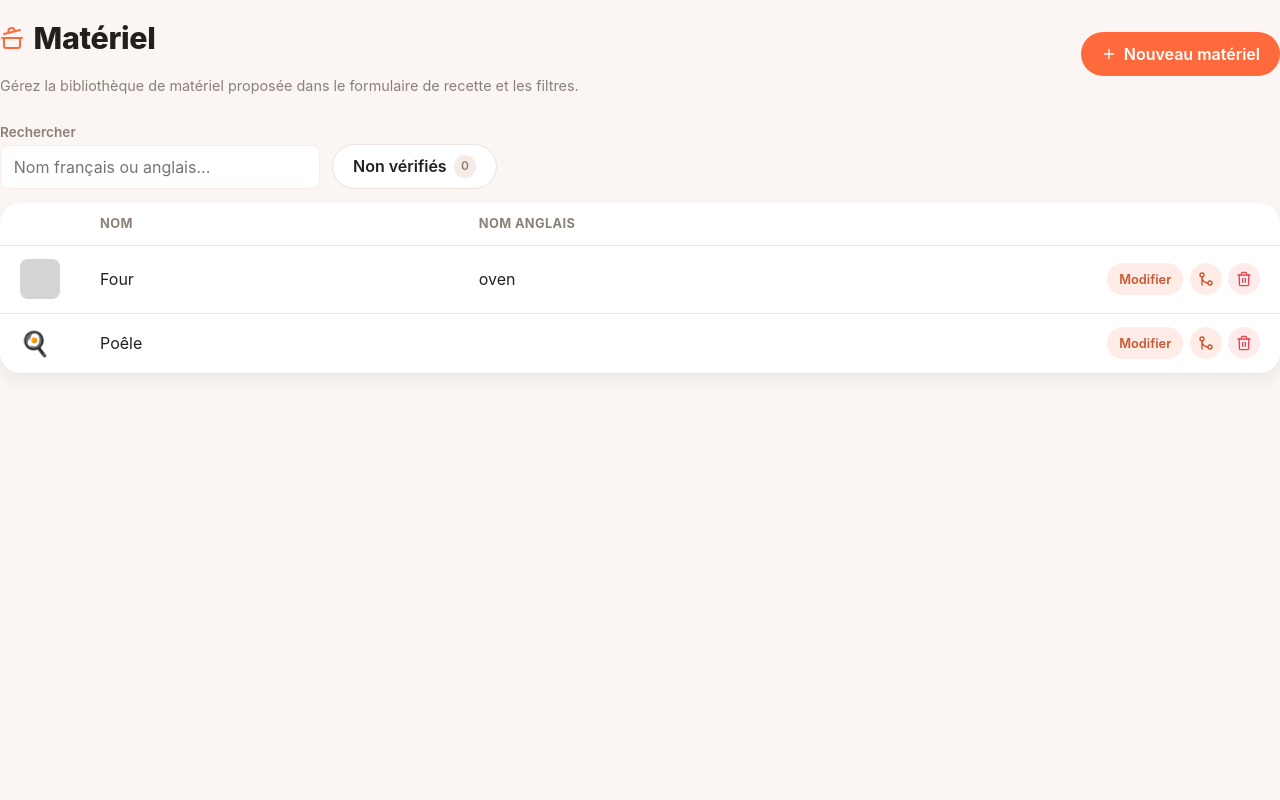
Test: AdminCookwareView › edits cookware, keeping its other translations, and reports a duplicate name
The width and height of the screenshot is (1280, 800).
Step 1. Click the button with class "secondary" in the row of "Four" → (1145, 279), box [1107,263,1183,295]
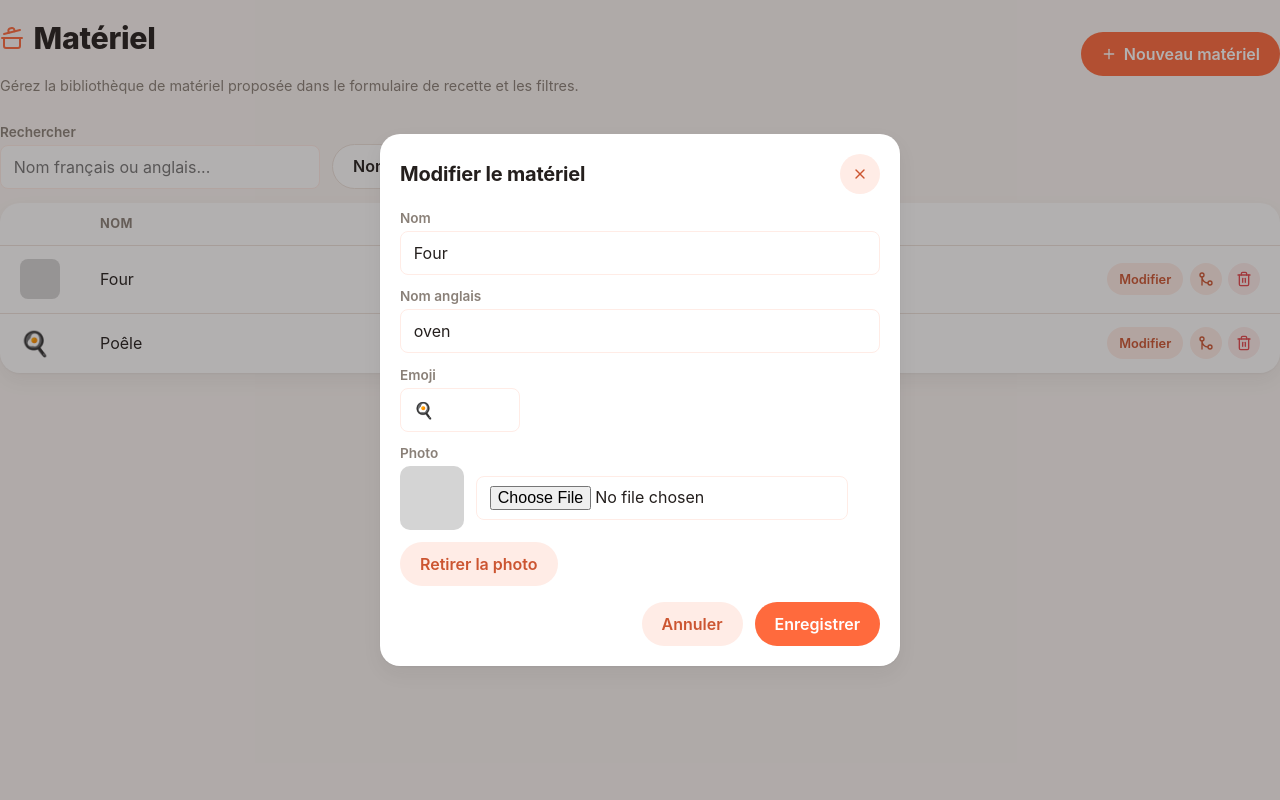
expect the field with id "cookware-modal-name-en" holds "oven": met, box [400,309,880,353]
Step 2. Replace the text in the field with id "cookware-modal-name" with "Poêle" → (640, 253), box [400,231,880,275]
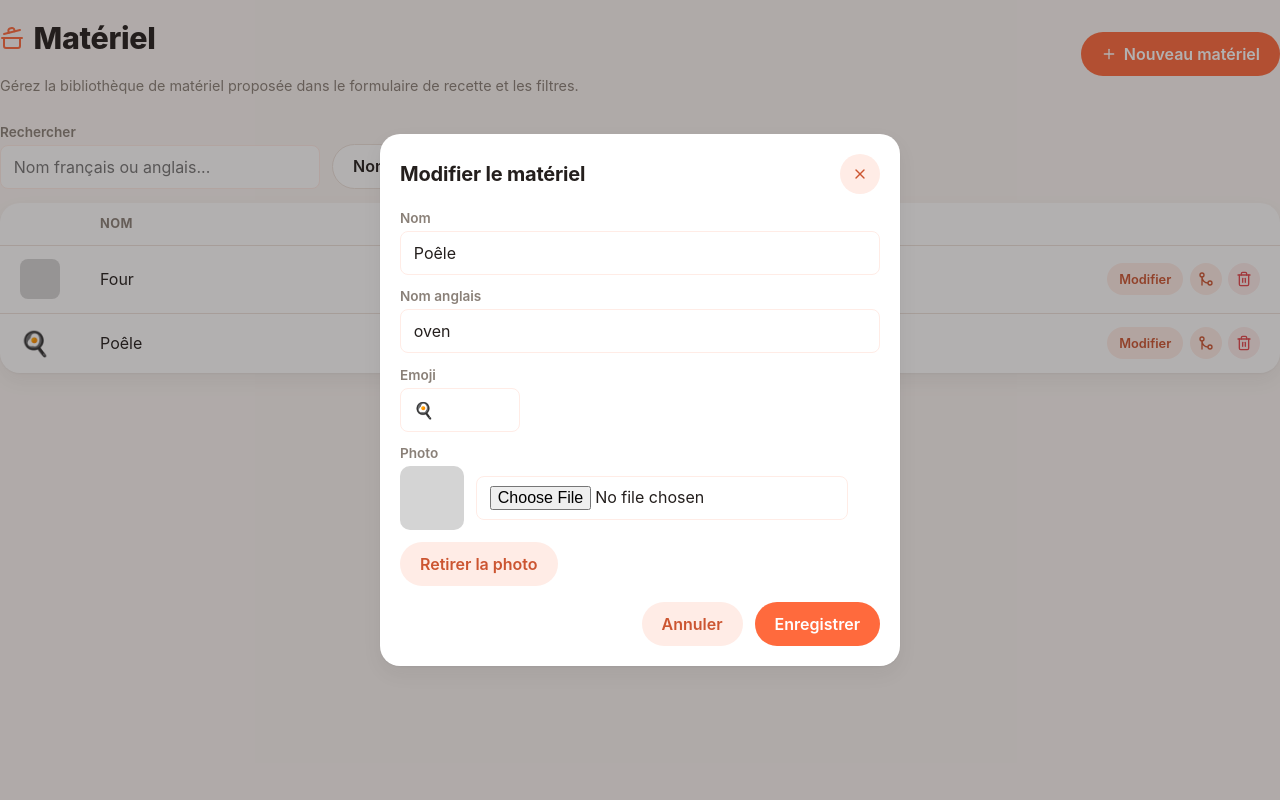
Step 3. Submit the form, box [400,210,880,646]
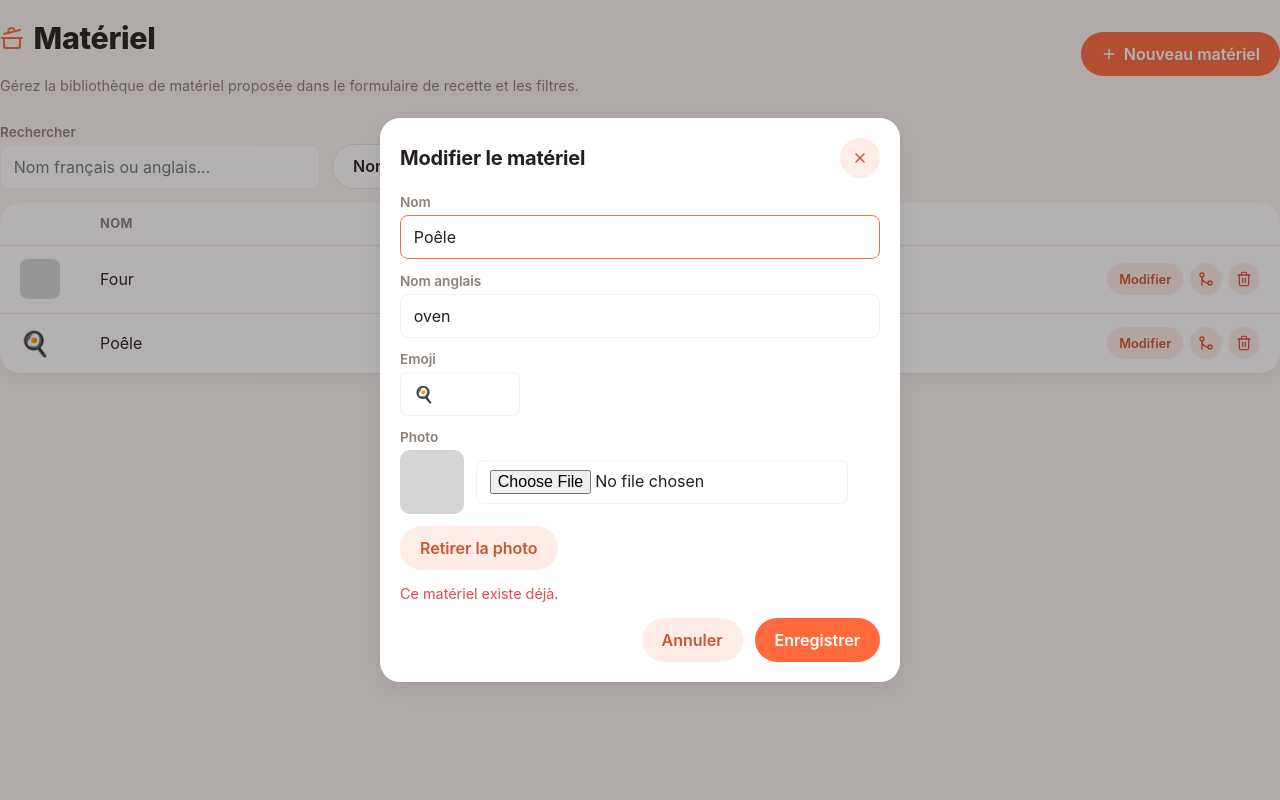
expect the text "Ce matériel existe déjà." is shown: met, box [400,585,558,602]
